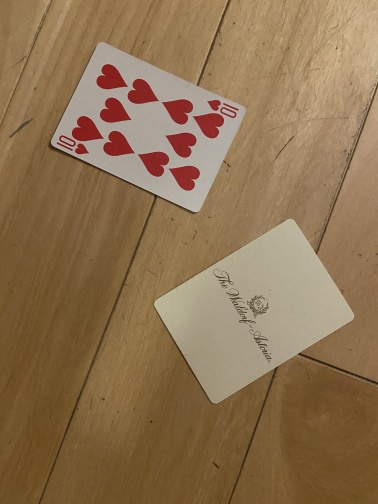ten: (48, 39, 247, 215)
